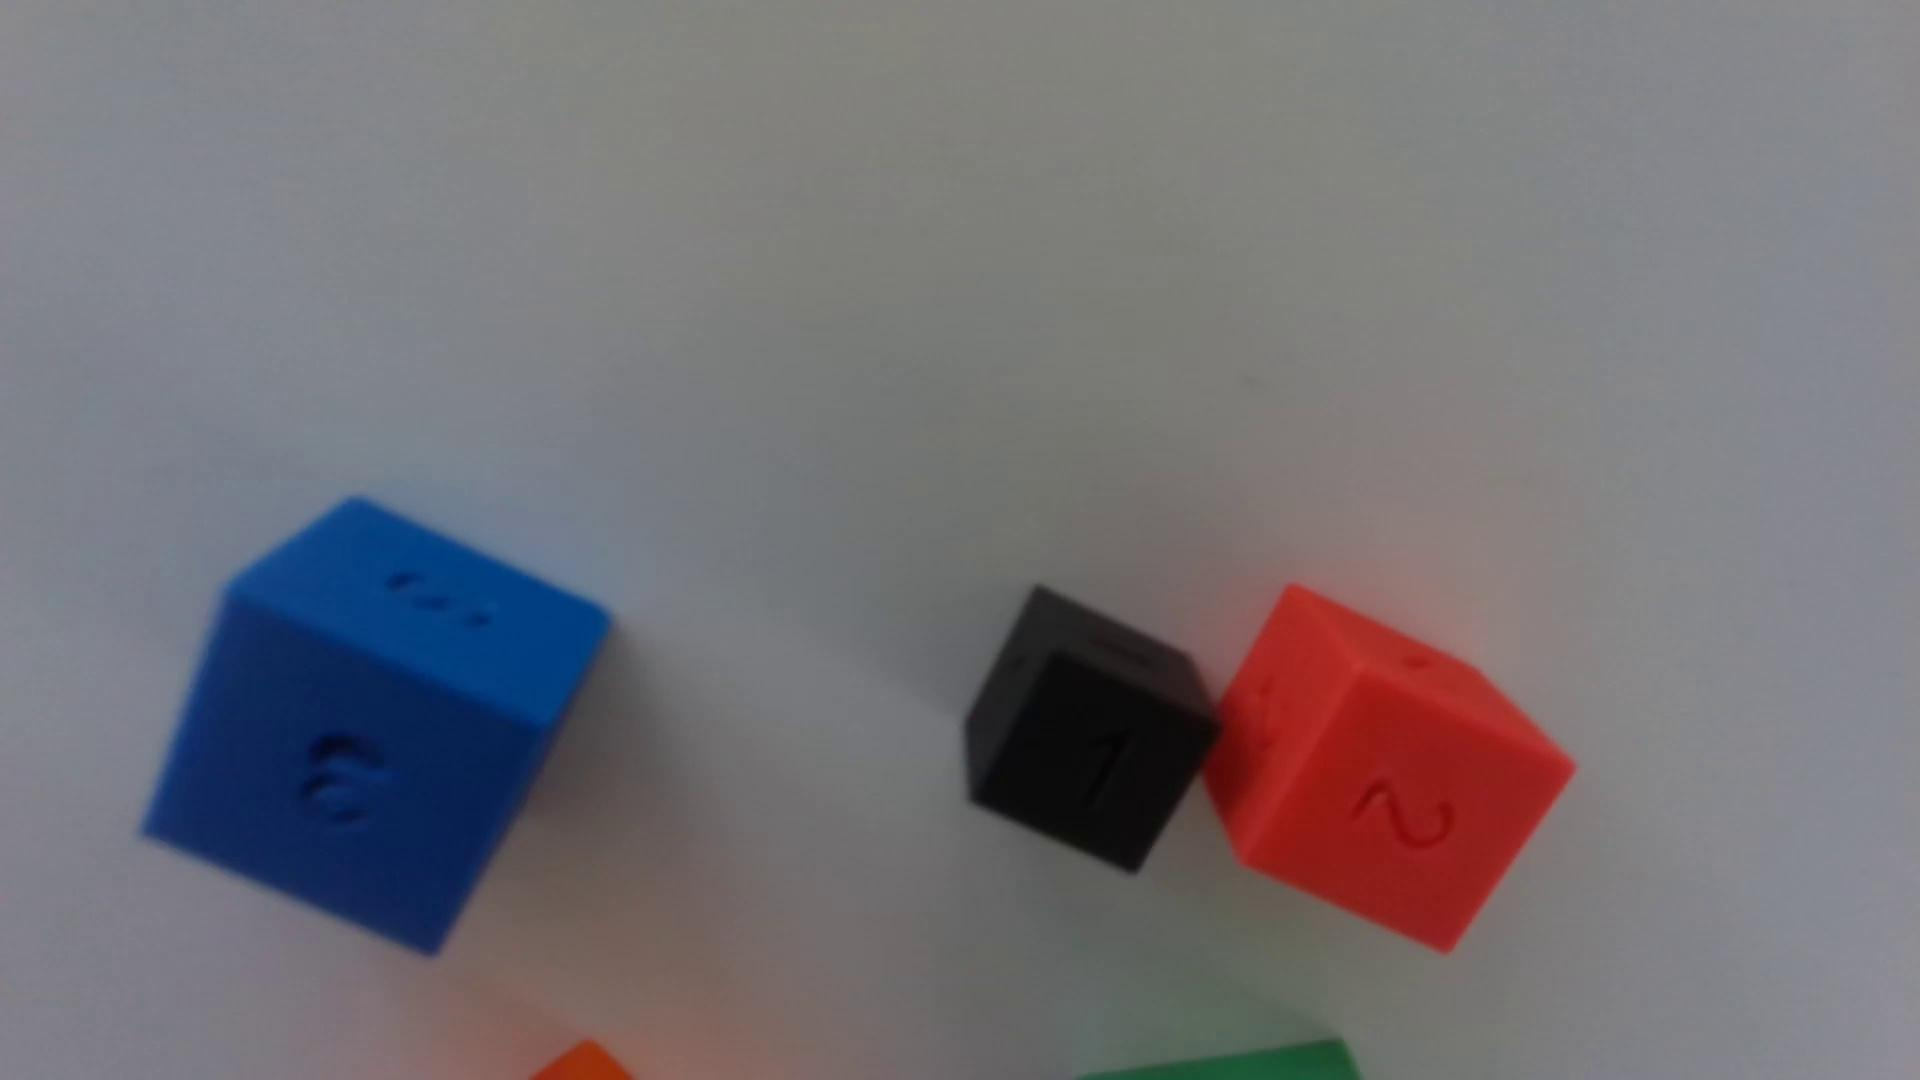black: (963, 588, 1218, 874)
blue: (144, 500, 611, 956)
green: (1088, 1040, 1361, 1080)
orange: (530, 1040, 632, 1080)
red: (1203, 585, 1575, 953)
